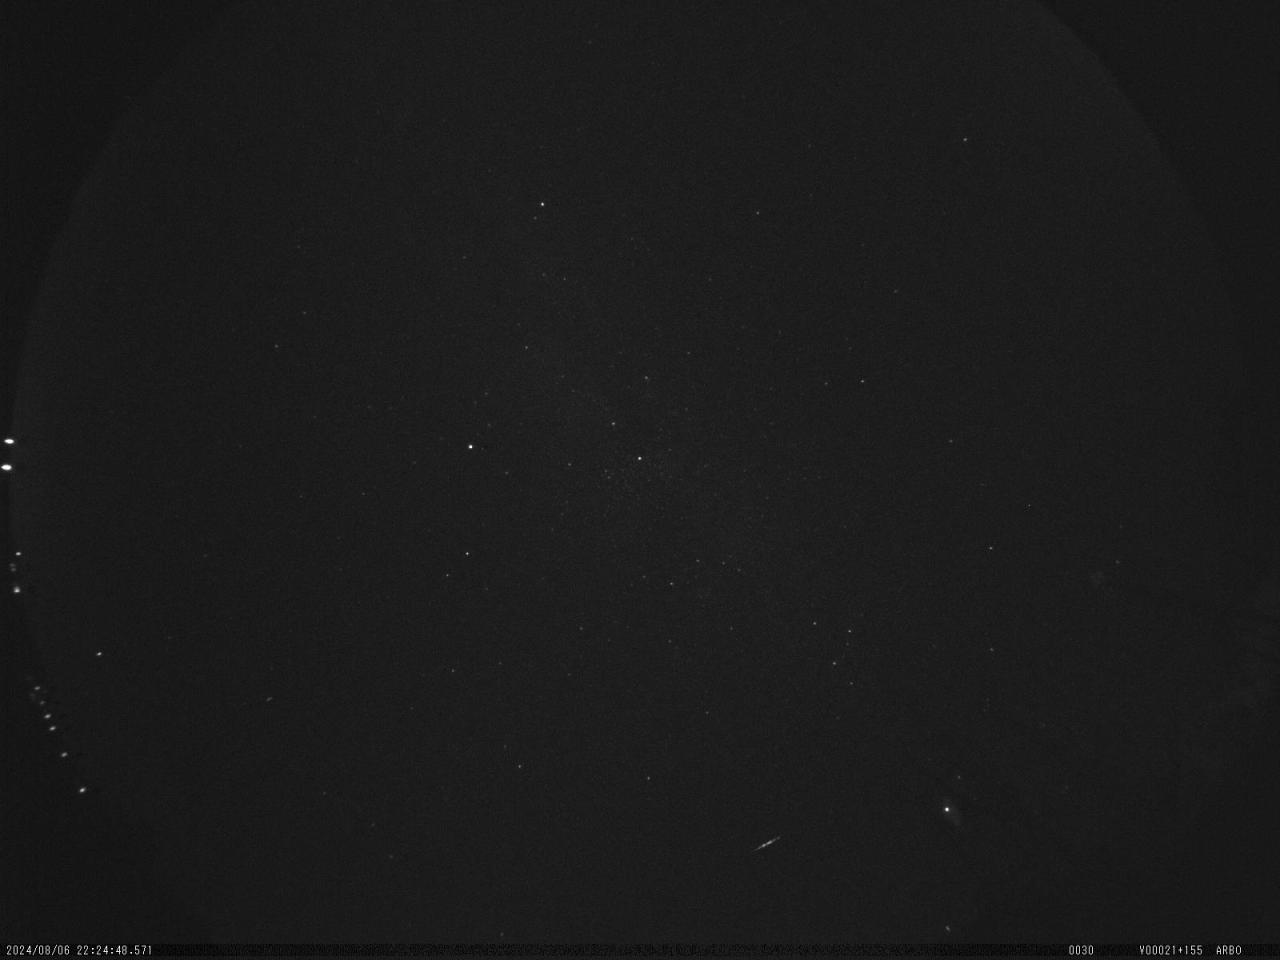Meteor: (746, 828, 788, 862)
